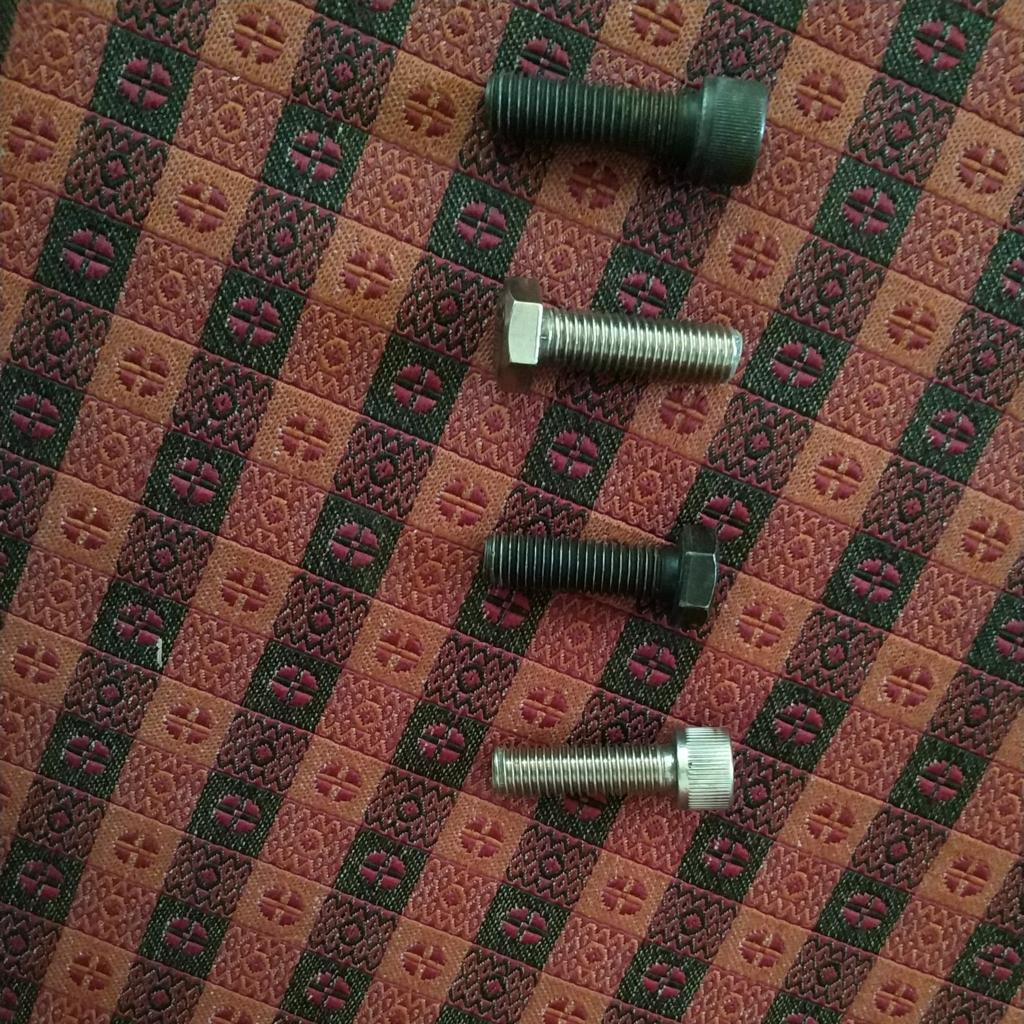screwtype1black: (480, 61, 768, 184)
screwtype1silver: (487, 717, 737, 823)
screwtype2black: (475, 514, 722, 623)
screwtype2silver: (483, 276, 746, 402)
